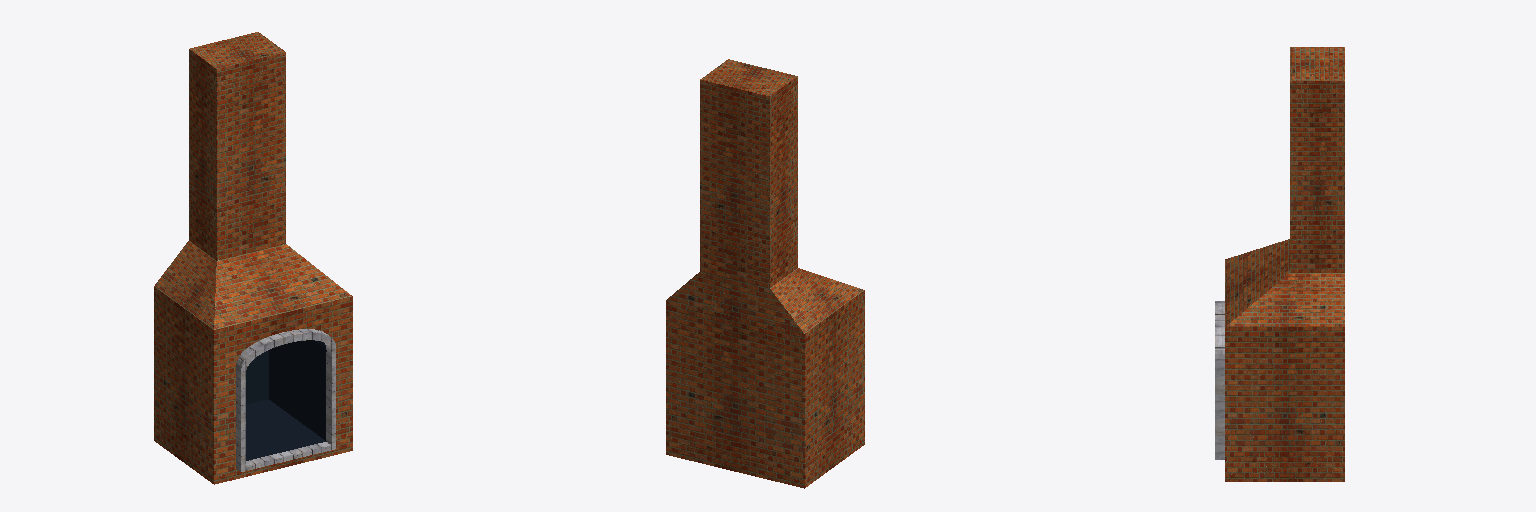
The picture shows the model from 3 angles: view 1: azimuth 30°, elevation 25°; view 2: azimuth 150°, elevation 25°; view 3: azimuth 270°, elevation 25°; orthographic projection.
Visible parts, largest first — view 1: Chimenea:Chimenea:pCube8; view 2: Chimenea:Chimenea:pCube8; view 3: Chimenea:Chimenea:pCube8.
Boxes of the visible parts, box(x1,y1,x2,y2) form: Chimenea:Chimenea:pCube8: box(154, 32, 352, 484); Chimenea:Chimenea:pCube8: box(666, 59, 864, 488); Chimenea:Chimenea:pCube8: box(1215, 47, 1344, 481).
Bounding box in the file's own units: 8 × 21.13 × 6.53.
Materials: 4 (3 with a texture image).